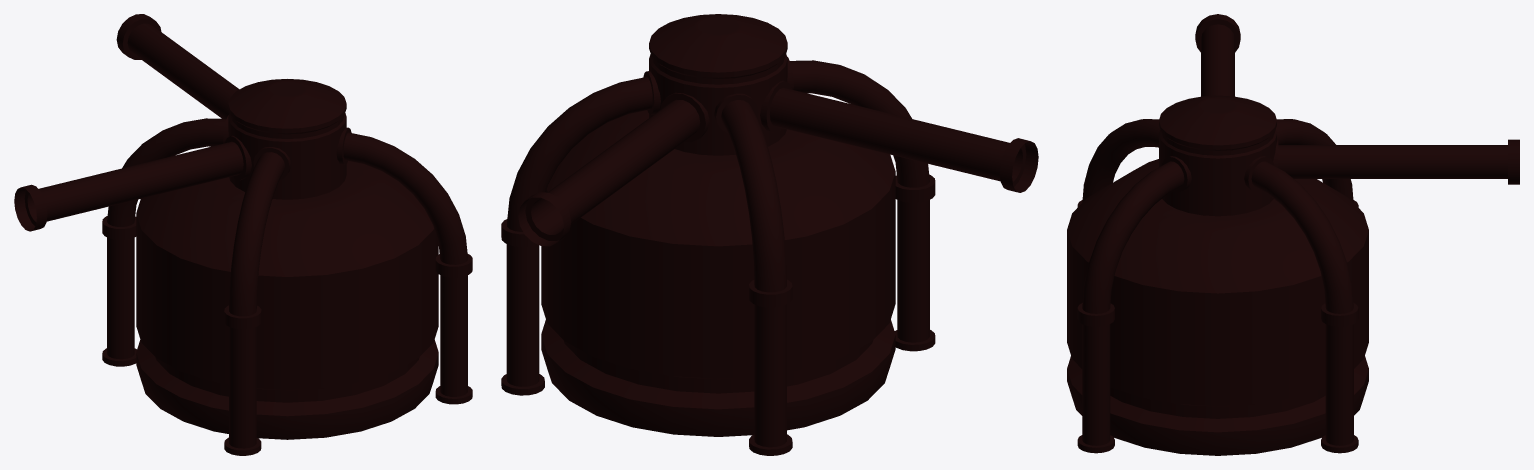
File: SM_CylinderTank-Large-A_E.fbx
3 views of the same model, side by side, from view 1: azimuth 30°, elevation 25°; view 2: azimuth 150°, elevation 25°; view 3: azimuth 270°, elevation 25° (orthographic). The views are drawn at different scales.
Visible parts, largest first — view 1: SM_CylinderTank-Large-A_E; view 2: SM_CylinderTank-Large-A_E; view 3: SM_CylinderTank-Large-A_E.
Part boxes in pixels (x1,y1,x2,y2): SM_CylinderTank-Large-A_E: (14,14,472,455); SM_CylinderTank-Large-A_E: (501,14,1038,455); SM_CylinderTank-Large-A_E: (1067,14,1519,455).
Size of the model in its own units: 750 by 750 by 526.
